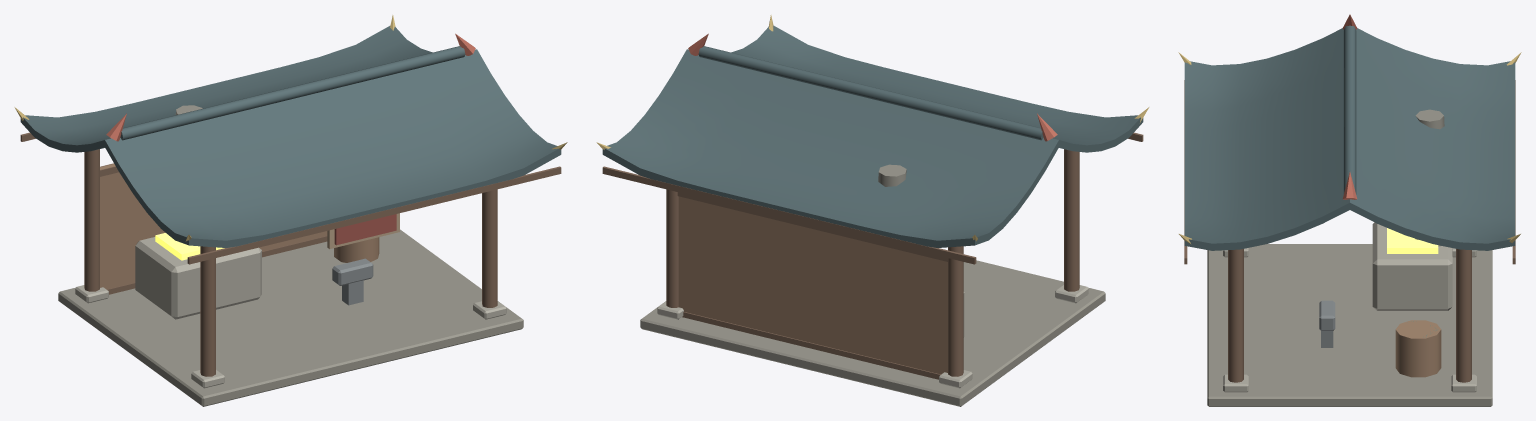
Rendered from smithy.glb.
3 renders of one model, left to right at view 1: azimuth 30°, elevation 25°; view 2: azimuth 150°, elevation 25°; view 3: azimuth 270°, elevation 25°, orthographic.
Parts seen in each view (by area): view 1: Smithy; view 2: Smithy; view 3: Smithy.
Part boxes in pixels (x1,y1,x2,y2): Smithy: [14, 15, 567, 406]; Smithy: [596, 15, 1149, 406]; Smithy: [1178, 14, 1521, 406].
Size of what is drawn, in the model's own units: 7.53 by 4.6 by 6.02.
